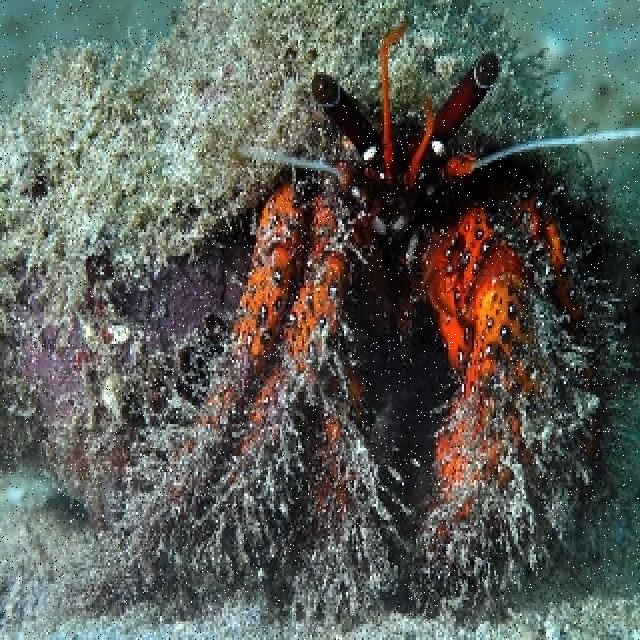fish: (0, 1, 638, 633)
